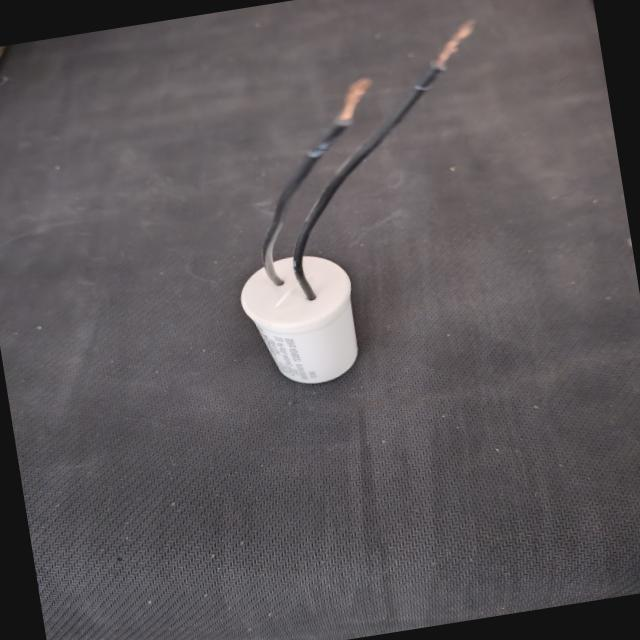capacitor: (174, 13, 536, 410)
